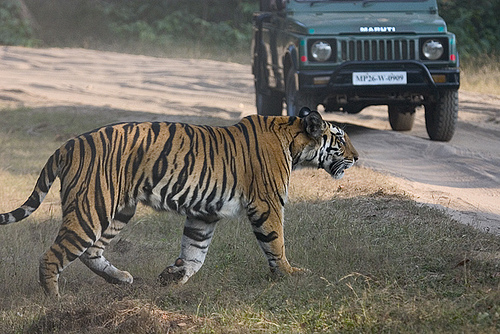Tigre: (11, 116, 364, 274)
